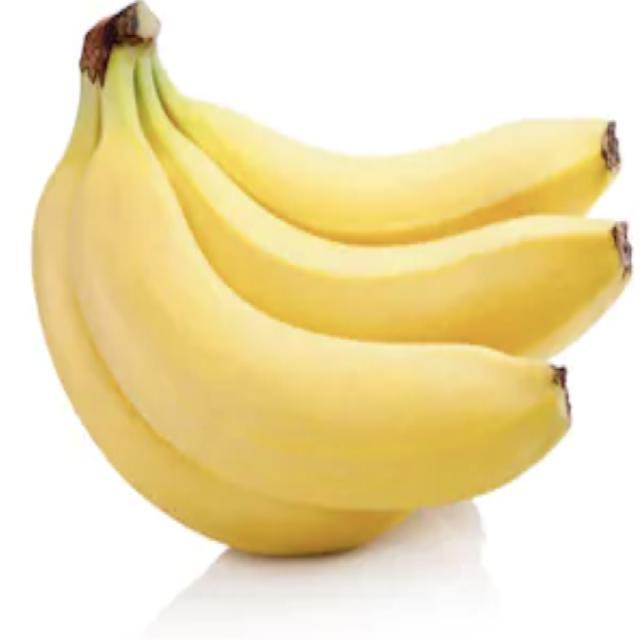Banana: (30, 0, 632, 558)
